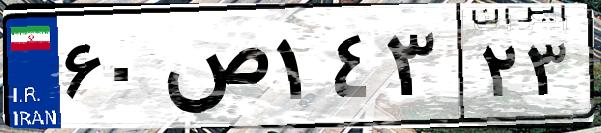0: (110, 28, 158, 98)
1: (270, 28, 330, 110)
2: (475, 38, 525, 113)
3: (385, 28, 445, 110), (525, 38, 570, 115)
4: (330, 28, 385, 110)
6: (57, 26, 110, 100)
ص: (158, 20, 270, 120)
